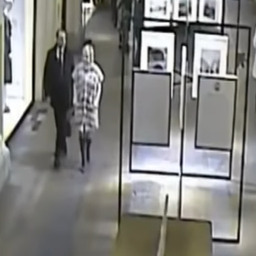person: (41, 28, 75, 170), (72, 43, 104, 173)
